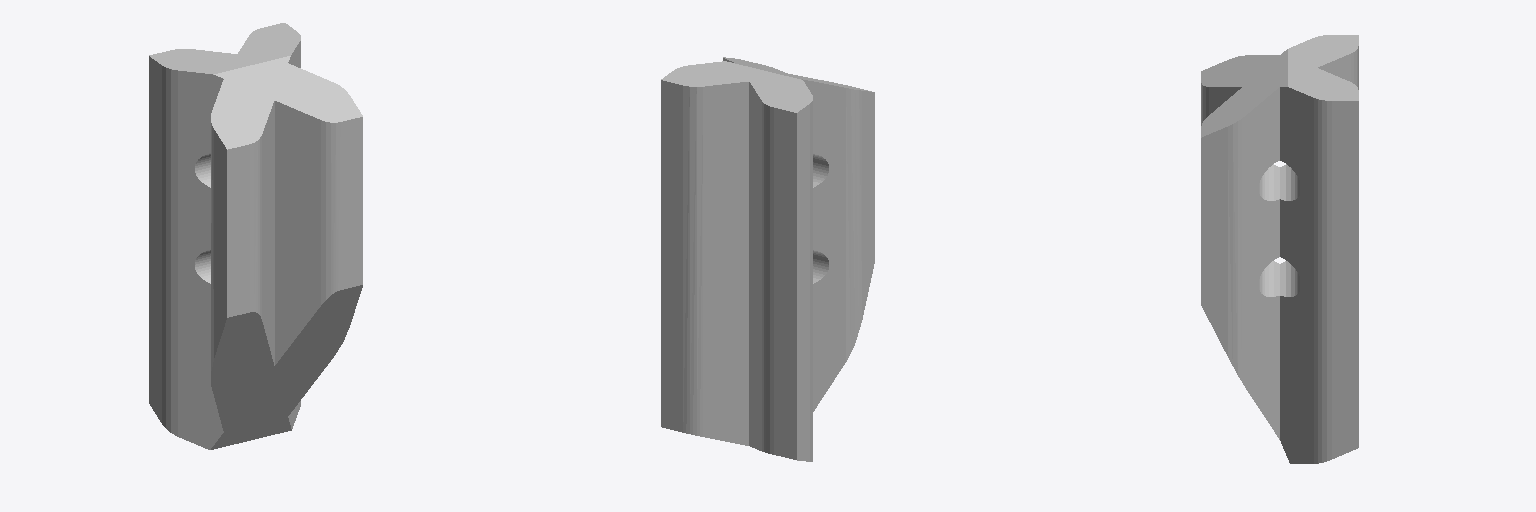
File: _x1_tube_crush_box_07__x1_tube_crush_box.obj
3 renders of one model, left to right at view 1: azimuth 30°, elevation 25°; view 2: azimuth 150°, elevation 25°; view 3: azimuth 270°, elevation 25°, orthographic.
Size of the model in its own units: 0.0188 by 0.0496 by 0.0188.